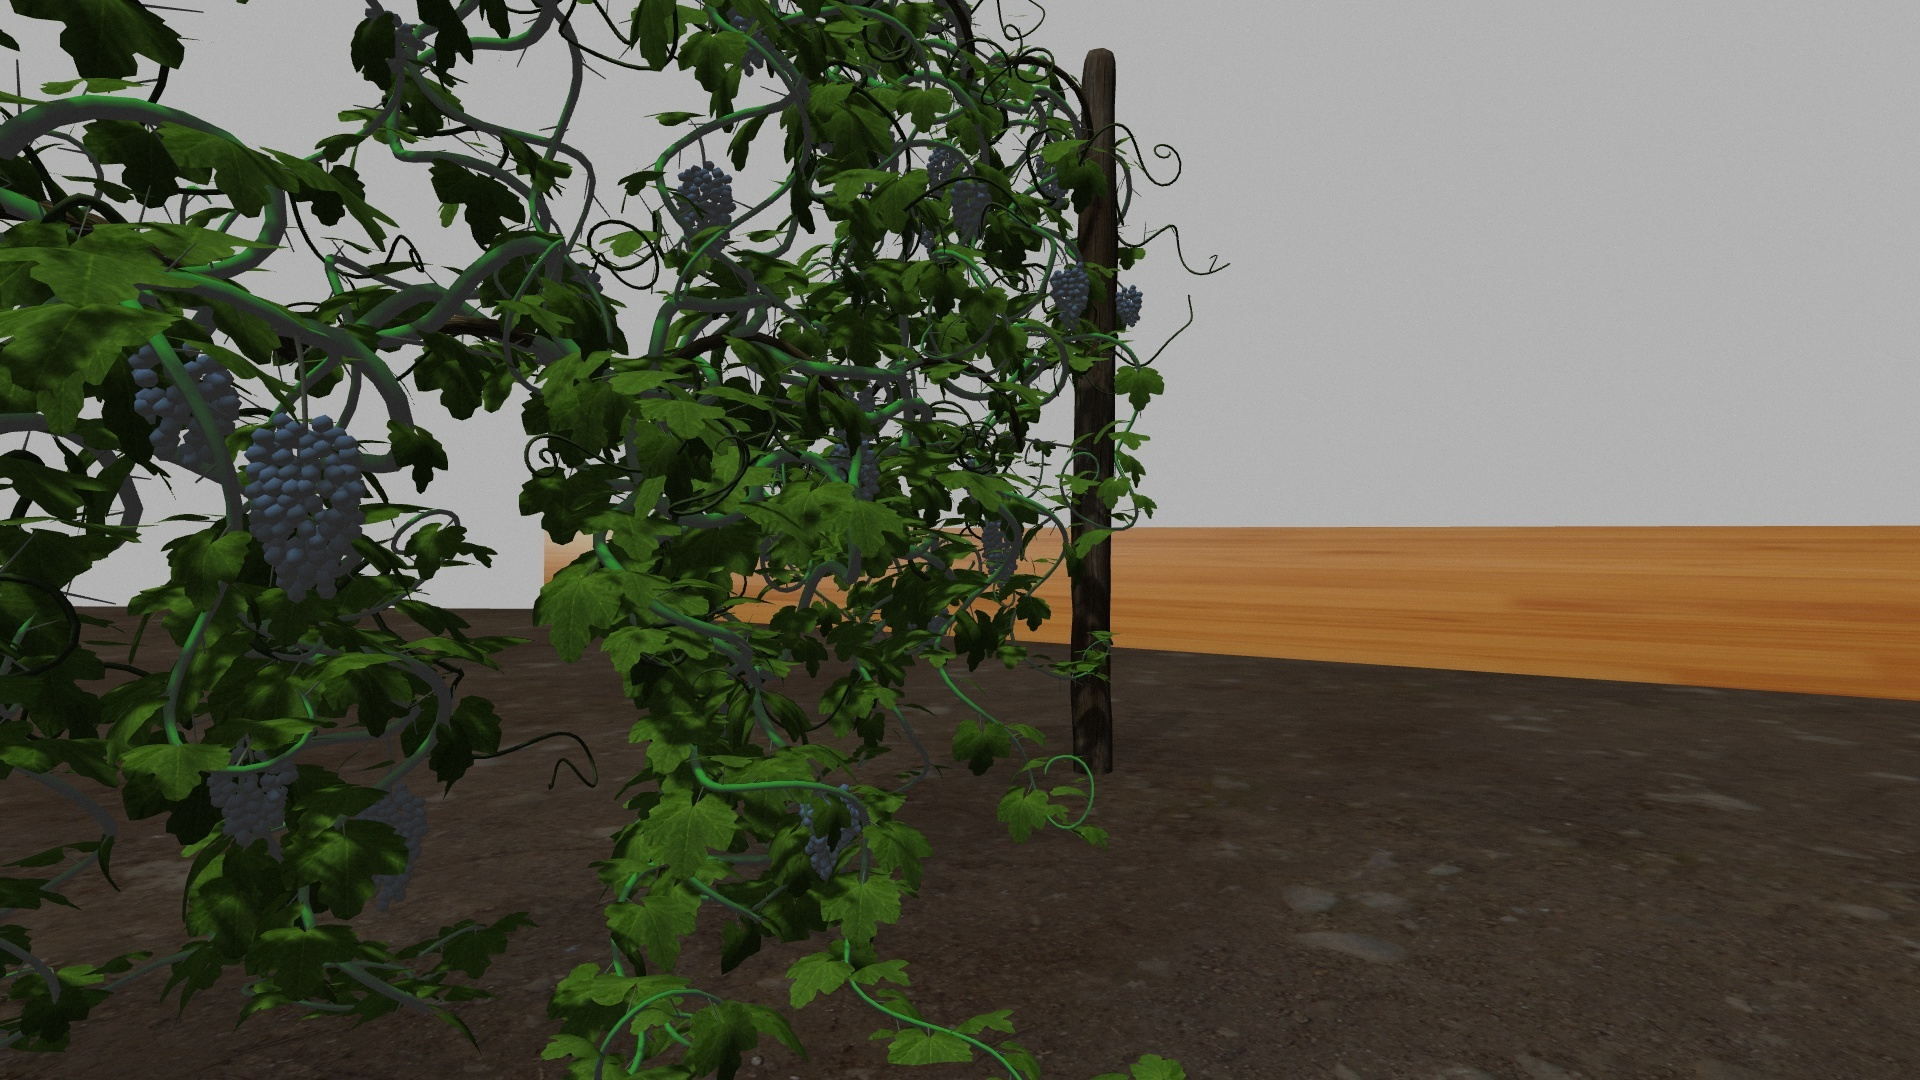grape: (239, 415, 367, 605), (129, 342, 235, 477), (351, 789, 430, 920), (208, 750, 299, 853), (800, 790, 860, 880), (675, 162, 735, 245), (1047, 262, 1091, 328), (978, 521, 1021, 584), (951, 181, 993, 237), (924, 148, 961, 196), (1114, 284, 1145, 327)
